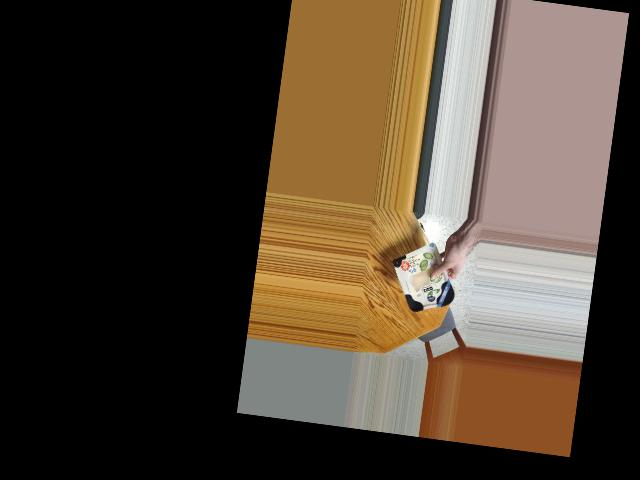cheese: (390, 246, 458, 315)
